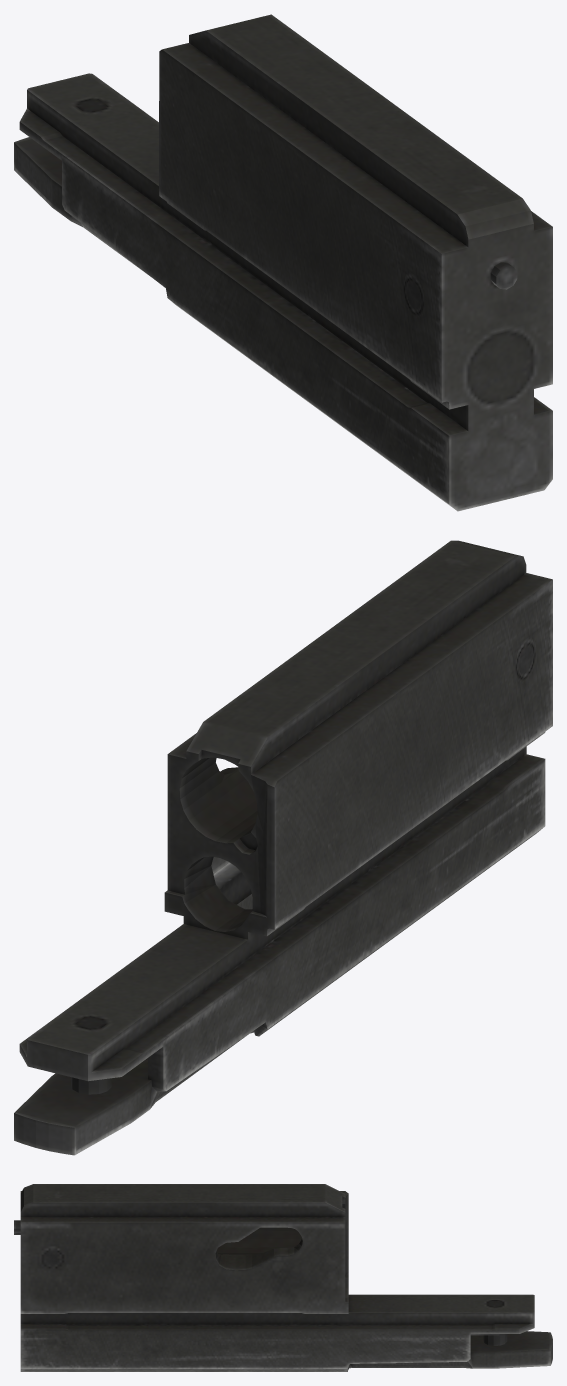
3 views of the same model, one above another, from view 1: azimuth 30°, elevation 25°; view 2: azimuth 150°, elevation 25°; view 3: azimuth 270°, elevation 25° (orthographic). The views are drawn at different scales.
Visible parts, largest first — view 1: TW_623063e994fc3f7b302a9696_PZ_Import; view 2: TW_623063e994fc3f7b302a9696_PZ_Import; view 3: TW_623063e994fc3f7b302a9696_PZ_Import.
Boxes of the visible parts, x1,y1,x2,y2 form: TW_623063e994fc3f7b302a9696_PZ_Import: [14, 14, 552, 511]; TW_623063e994fc3f7b302a9696_PZ_Import: [14, 540, 552, 1155]; TW_623063e994fc3f7b302a9696_PZ_Import: [14, 1184, 552, 1371].
Size of the model in its own units: 0.0109 by 0.0789 by 0.027.
1 material, 1 textured.
